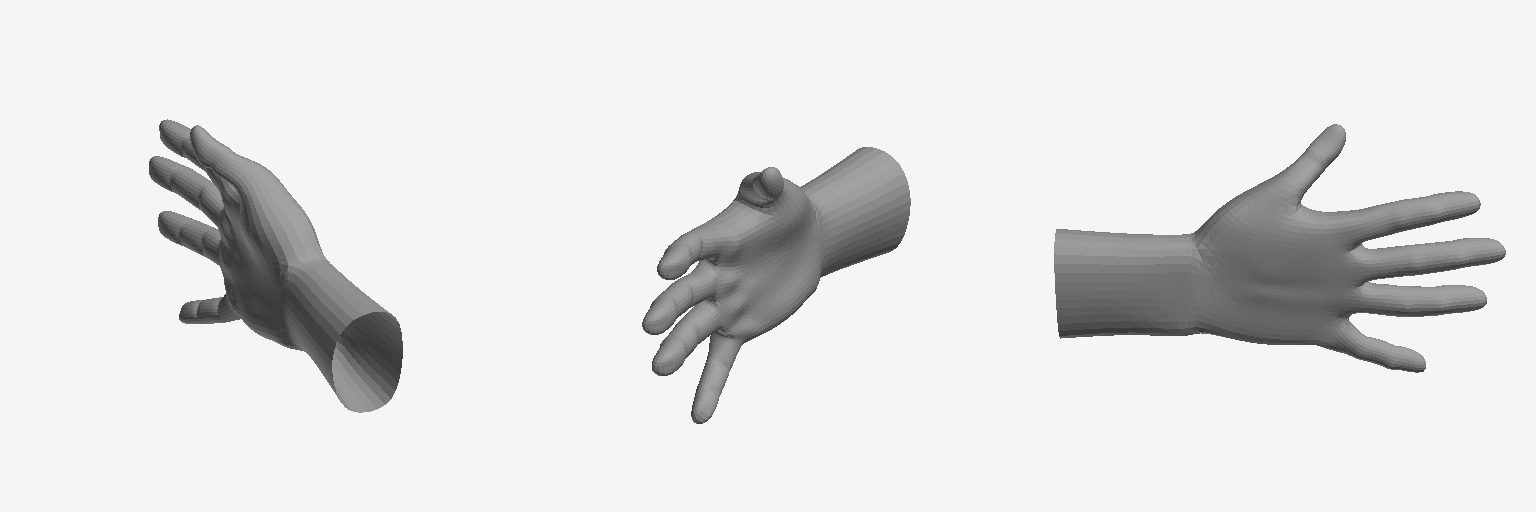
3 renders of one model, left to right at view 1: azimuth 30°, elevation 25°; view 2: azimuth 150°, elevation 25°; view 3: azimuth 270°, elevation 25°, orthographic.
Parts seen in each view (by area): view 1: sağel_Circle.001; view 2: sağel_Circle.001; view 3: sağel_Circle.001.
Part boxes in pixels (x1,y1,x2,y2): sağel_Circle.001: (149, 119, 402, 412); sağel_Circle.001: (642, 147, 910, 423); sağel_Circle.001: (1054, 124, 1505, 372).
Bounding box in the file's own units: 0.456 × 1.34 × 2.36.